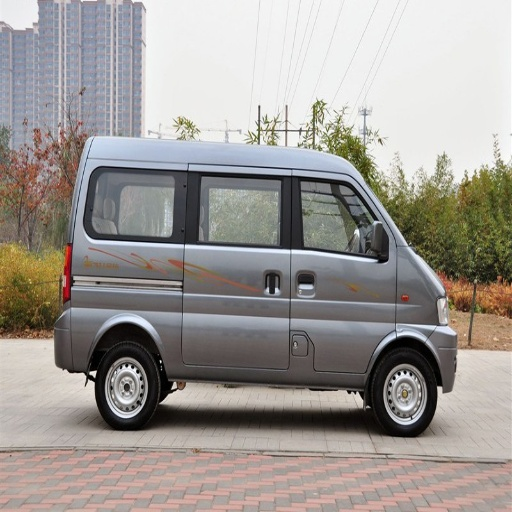trunk: (67, 279, 178, 374), (305, 319, 392, 375)
